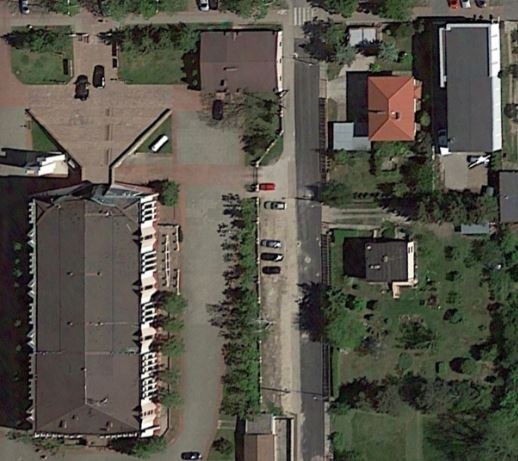church: (20, 167, 167, 446)
family house: (435, 18, 504, 156), (194, 25, 287, 98), (365, 73, 424, 145), (363, 238, 419, 288)
